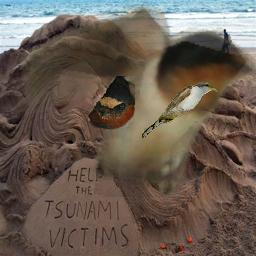Cuckoo: (140, 81, 219, 138)
Swallow: (17, 4, 256, 197), (88, 76, 135, 130)
